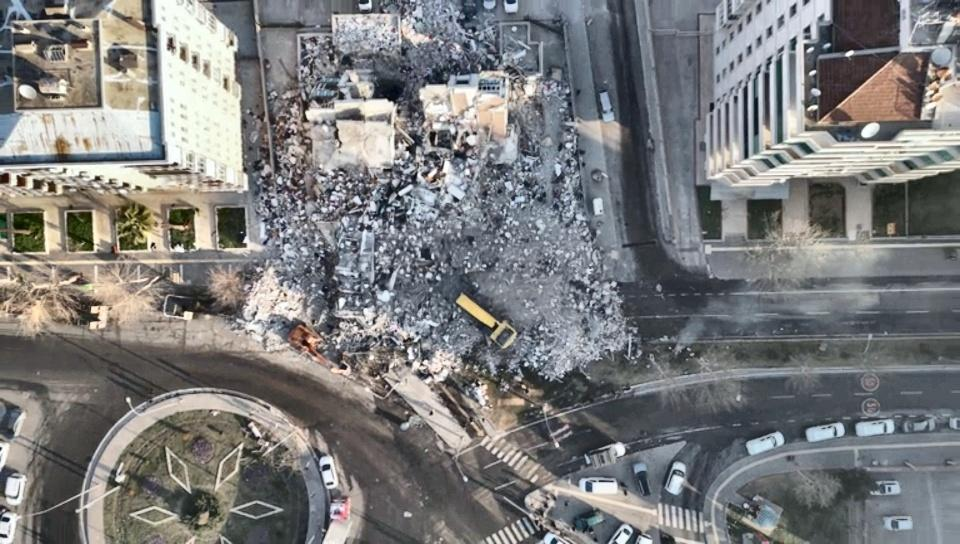kapali: (388, 294, 700, 349)
